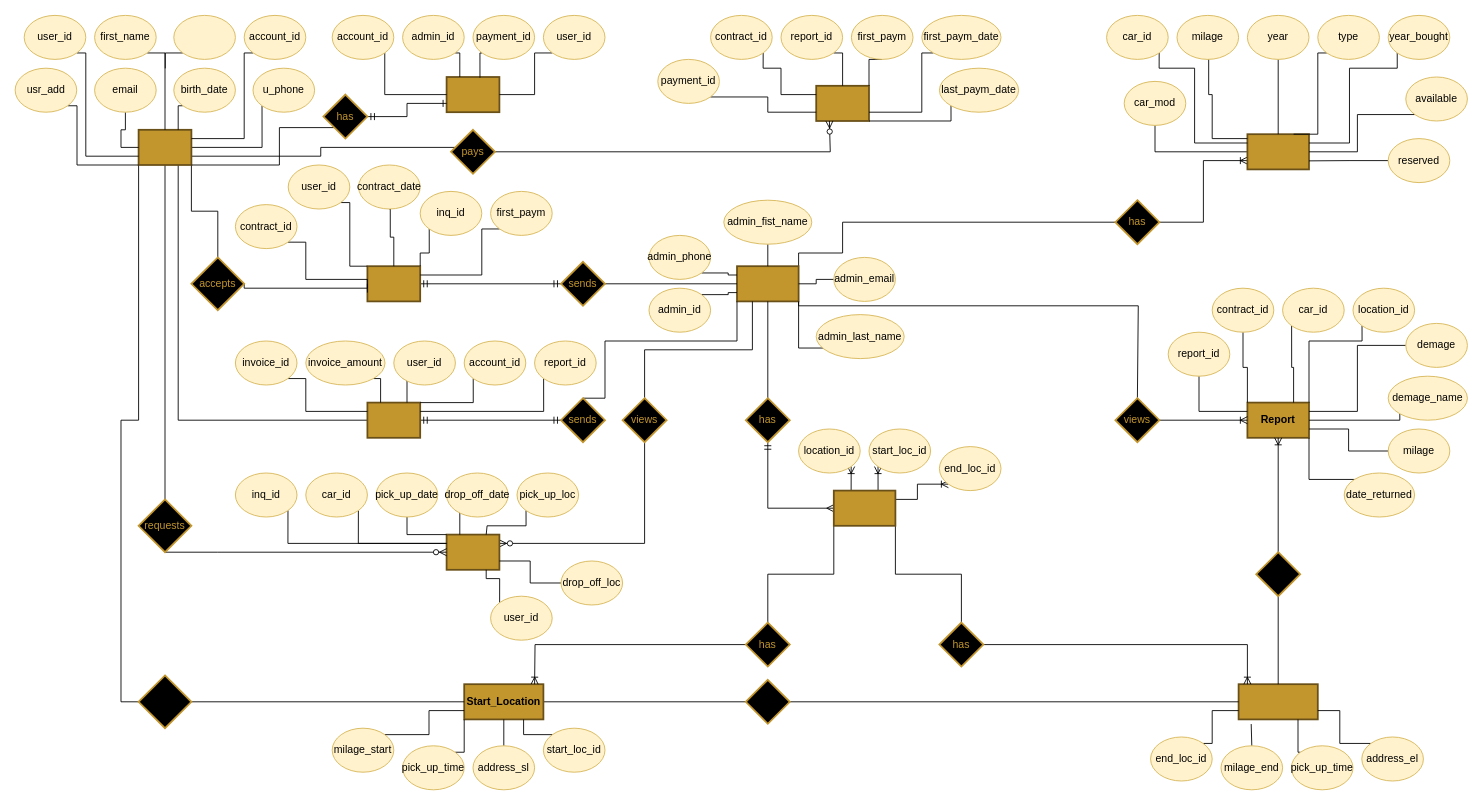
This 1484x805 diagram has some shape labels left out. Each missing label, with the centre of its shape:
"Account" belongs at (x=472, y=94).
"Admin_Car" belongs at (x=767, y=283).
"Cars" belongs at (x=1277, y=151).
"Contract" belongs at (x=393, y=283).
"drop off" belongs at (x=767, y=701).
"End_Location" belongs at (x=1277, y=701).
"fills out" belongs at (x=1278, y=574).
"Inquiry" belongs at (x=472, y=551).
"Invoice" belongs at (x=393, y=419).
"last_name" belongs at (x=204, y=37).
"Locations" belongs at (x=864, y=507).
"Payment" belongs at (x=842, y=102).
"picks up" belongs at (x=164, y=701).
"User" belongs at (x=164, y=146).
